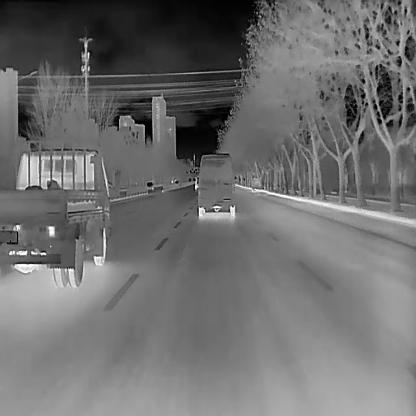car: (196, 151, 235, 218), (251, 176, 261, 188), (146, 181, 152, 189)
truck: (0, 140, 120, 288)
